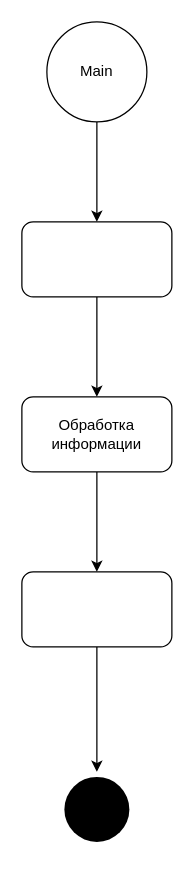
Some shapes in this 194 by 869 pixel diagram are drawn without their labels. Each missing label, with the centre of its shape:
"Ввод данных" goes at [96,259].
"Вывод результата" goes at [96,609].
